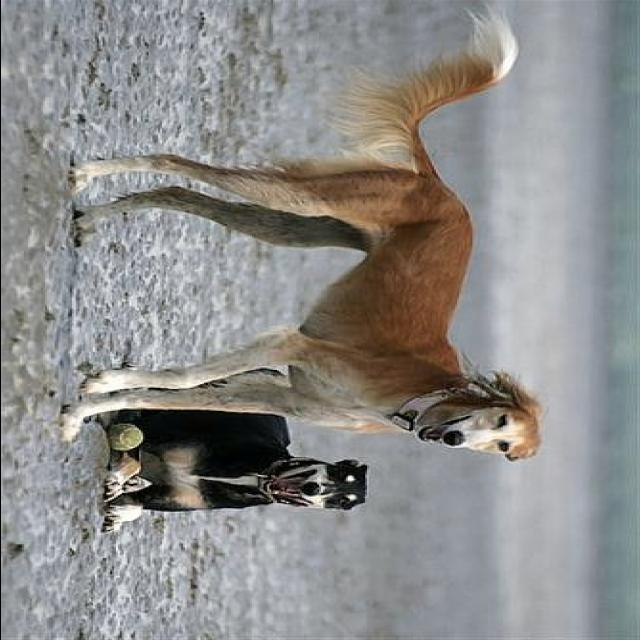saluki: (58, 1, 548, 462), (100, 367, 370, 535)
